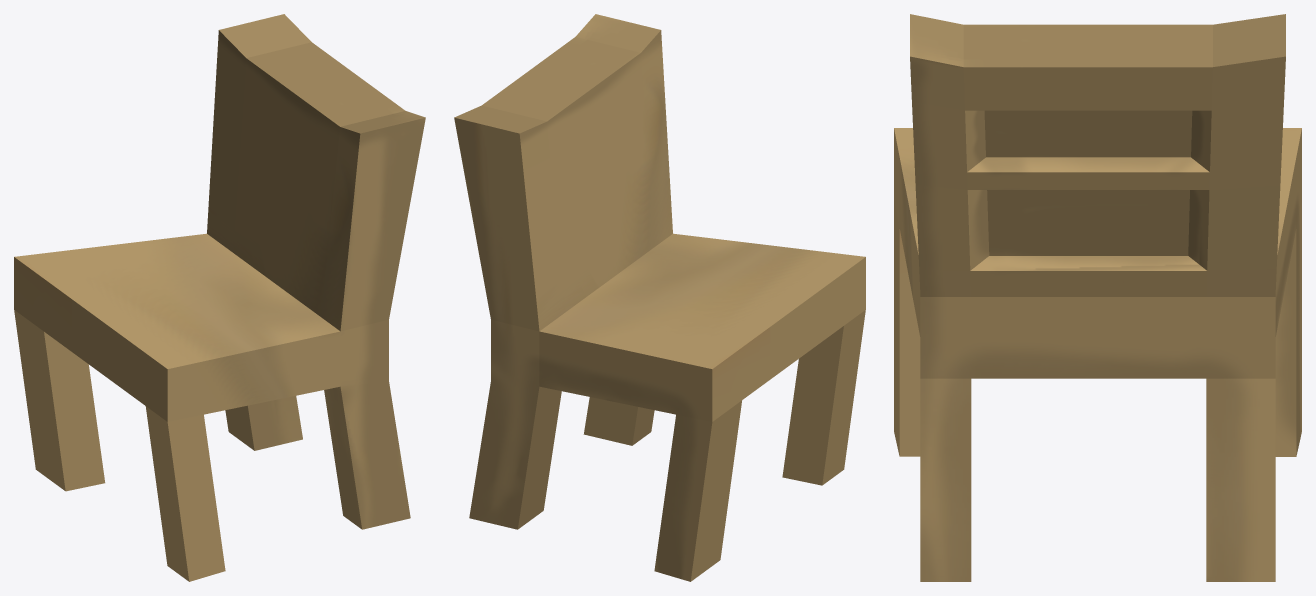
Rendered from SillaMadera_prefab.fbx.
The picture shows the model from 3 angles, left to right: view 1: azimuth 30°, elevation 25°; view 2: azimuth 150°, elevation 25°; view 3: azimuth 270°, elevation 25°; orthographic projection. The views are drawn at different scales.
Parts seen in each view (by area): view 1: Cube.001; view 2: Cube.001; view 3: Cube.001.
Part boxes in pixels (<box>): Cube.001: <box>14,14,425,581</box>; Cube.001: <box>454,14,865,581</box>; Cube.001: <box>894,14,1301,581</box>.
Bounding box in the file's own units: 228 × 331 × 230.
1 material, 1 textured.
